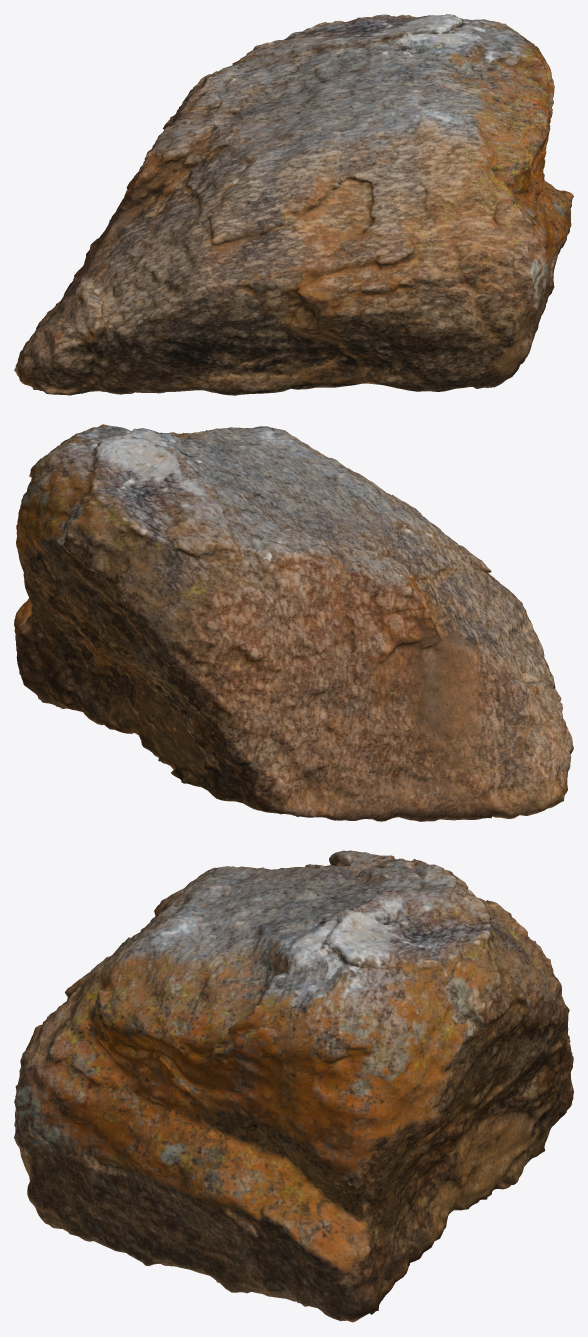
The model's file is corealm_sunder_ledge.glb.
3 renders of one model, top to bottom at view 1: azimuth 30°, elevation 25°; view 2: azimuth 150°, elevation 25°; view 3: azimuth 270°, elevation 25°, orthographic. The views are drawn at different scales.
Visible parts, largest first — view 1: original Namaqualand Boulder 04; view 2: original Namaqualand Boulder 04; view 3: original Namaqualand Boulder 04.
Part boxes in pixels (x1,y1,x2,y2): original Namaqualand Boulder 04: (14,14,573,395); original Namaqualand Boulder 04: (14,424,573,821); original Namaqualand Boulder 04: (14,850,573,1322).
Size of the model in its own units: 9.32 by 4.45 by 6.74.
1 material, 1 textured.
